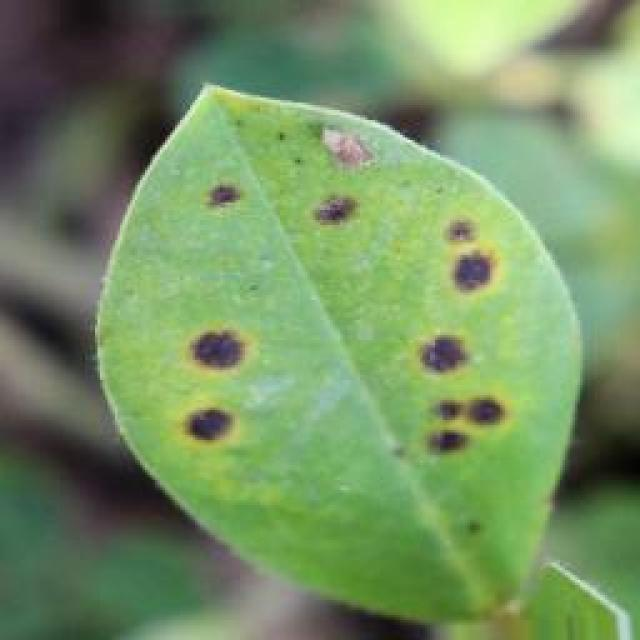Yellowish: (87, 52, 586, 570)
